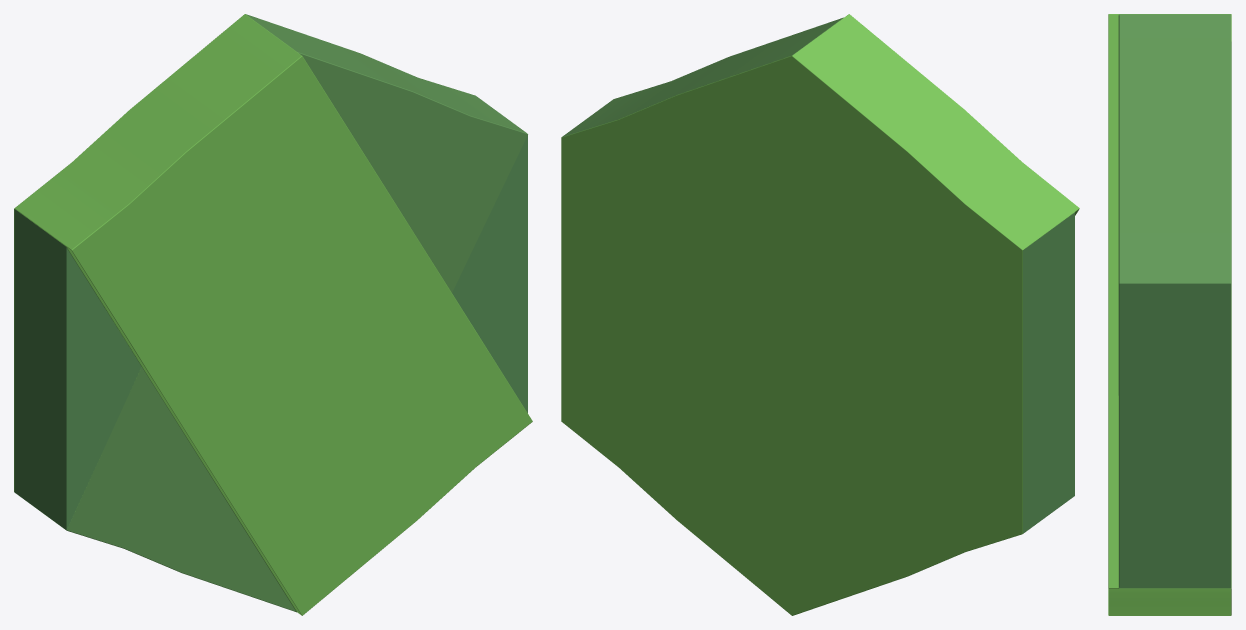
Rendered from node_textures.gltf.
3 renders of one model, left to right at view 1: azimuth 30°, elevation 25°; view 2: azimuth 150°, elevation 25°; view 3: azimuth 270°, elevation 25°, orthographic. The views are drawn at different scales.
Visible parts, largest first — view 1: Plane; view 2: Plane; view 3: Plane.
Boxes of the visible parts, bbox=[...] form: Plane: bbox=[14, 14, 532, 615]; Plane: bbox=[561, 14, 1079, 615]; Plane: bbox=[1108, 14, 1231, 615].
Size of the model in its own units: 1.69 by 1.96 by 0.3634.
